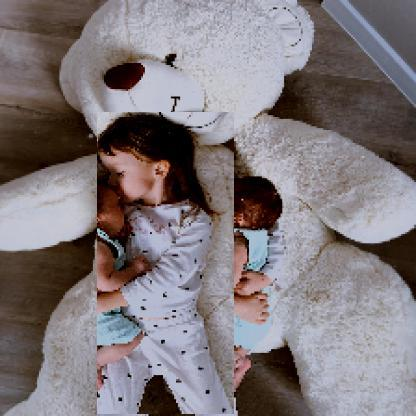child: (98, 113, 236, 416), (179, 177, 285, 391)
